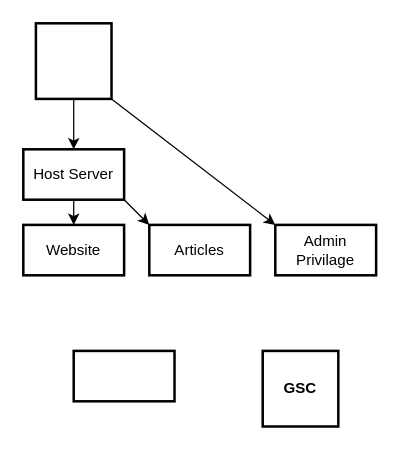
This 398x449 diagram has some shape labels left out. The box of each missing label's shape, as (x1, y1, x2, y2) in pixels:
Editing Privilage: (72, 349, 175, 402)
Wix: (34, 21, 112, 100)
